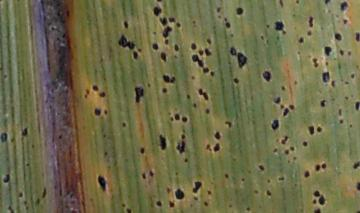tarspot: (117, 35, 135, 49), (191, 54, 204, 68), (134, 86, 144, 103), (275, 20, 286, 35), (237, 52, 247, 68), (97, 176, 106, 192), (174, 187, 185, 200), (191, 181, 202, 193), (159, 134, 167, 150), (198, 89, 209, 100), (176, 140, 185, 153), (262, 70, 271, 82), (271, 118, 279, 131), (153, 6, 162, 17), (322, 71, 330, 83), (318, 194, 326, 206), (163, 27, 172, 37), (333, 32, 343, 41), (162, 73, 170, 84), (311, 57, 319, 68), (1, 132, 8, 144), (160, 52, 167, 64), (159, 17, 168, 26), (235, 7, 244, 16), (20, 127, 28, 137), (340, 2, 348, 12), (324, 46, 332, 56), (2, 173, 10, 183), (308, 15, 314, 28), (229, 47, 237, 56), (212, 143, 221, 151), (352, 161, 360, 170), (41, 187, 47, 199), (190, 41, 197, 51), (282, 107, 289, 117), (281, 135, 288, 145), (308, 125, 315, 135), (214, 132, 222, 140), (273, 96, 281, 104), (132, 51, 139, 60), (205, 143, 212, 152), (338, 47, 345, 56), (265, 188, 272, 197), (123, 20, 129, 30), (354, 101, 360, 111), (91, 85, 99, 92), (174, 113, 181, 121), (151, 43, 159, 50), (197, 48, 204, 56), (320, 99, 327, 107), (303, 170, 310, 178), (313, 189, 320, 197), (316, 124, 322, 133), (315, 163, 321, 172), (94, 109, 101, 116), (98, 91, 105, 98), (203, 67, 210, 74), (205, 48, 212, 55), (233, 78, 240, 85), (225, 121, 232, 128), (288, 103, 295, 110), (168, 201, 175, 208), (8, 206, 15, 213), (180, 117, 188, 123), (145, 80, 151, 88), (170, 75, 176, 83), (174, 43, 180, 51), (206, 37, 212, 45), (330, 80, 336, 88), (321, 162, 327, 170), (313, 207, 321, 213), (203, 200, 209, 208), (356, 31, 360, 42), (9, 138, 16, 144), (84, 88, 90, 95), (162, 86, 168, 93), (169, 17, 176, 23), (280, 85, 286, 92), (297, 37, 304, 43), (306, 30, 312, 37), (259, 164, 265, 171), (344, 79, 350, 86), (278, 176, 285, 182), (223, 172, 229, 179), (156, 200, 162, 207), (126, 207, 133, 213), (35, 198, 41, 205), (319, 25, 325, 32), (327, 7, 333, 14), (337, 108, 342, 116), (30, 143, 36, 149), (209, 71, 215, 77), (225, 22, 231, 28), (259, 35, 265, 41), (284, 149, 290, 155), (302, 140, 308, 146), (344, 95, 350, 101), (206, 189, 212, 195), (193, 195, 199, 201), (3, 72, 8, 79), (137, 47, 142, 54), (140, 147, 145, 154), (176, 21, 181, 28), (205, 107, 210, 114), (279, 1, 284, 8), (343, 19, 348, 26), (350, 72, 355, 79), (312, 198, 317, 205), (149, 170, 154, 177), (142, 172, 147, 179), (292, 12, 297, 19), (357, 182, 360, 193), (191, 20, 197, 25), (192, 103, 198, 108), (173, 54, 179, 59), (181, 129, 187, 134), (217, 7, 222, 13), (265, 23, 270, 29), (324, 61, 329, 67), (348, 50, 353, 56), (290, 145, 295, 151), (339, 119, 344, 125), (228, 203, 233, 209), (240, 177, 246, 182), (18, 192, 23, 198), (23, 199, 28, 205), (186, 93, 190, 100), (293, 79, 297, 86), (167, 187, 171, 194), (83, 94, 88, 99), (103, 150, 108, 155), (184, 158, 189, 163), (181, 135, 186, 140), (169, 116, 174, 121), (153, 30, 158, 35), (164, 40, 169, 45), (229, 33, 234, 38), (296, 50, 301, 55), (273, 147, 278, 152), (246, 207, 251, 212), (174, 171, 179, 176), (335, 13, 340, 18), (122, 122, 126, 128), (294, 1, 300, 5), (323, 1, 331, 4), (25, 204, 29, 210), (57, 135, 62, 139), (104, 110, 108, 115), (191, 75, 195, 80), (217, 15, 222, 19), (280, 105, 285, 109), (293, 156, 297, 161), (287, 159, 291, 164), (349, 123, 353, 128), (267, 179, 271, 184), (254, 189, 258, 194), (121, 204, 126, 208), (26, 163, 30, 167), (155, 1, 162, 3), (103, 135, 107, 138), (225, 18, 228, 22), (357, 210, 360, 213)
